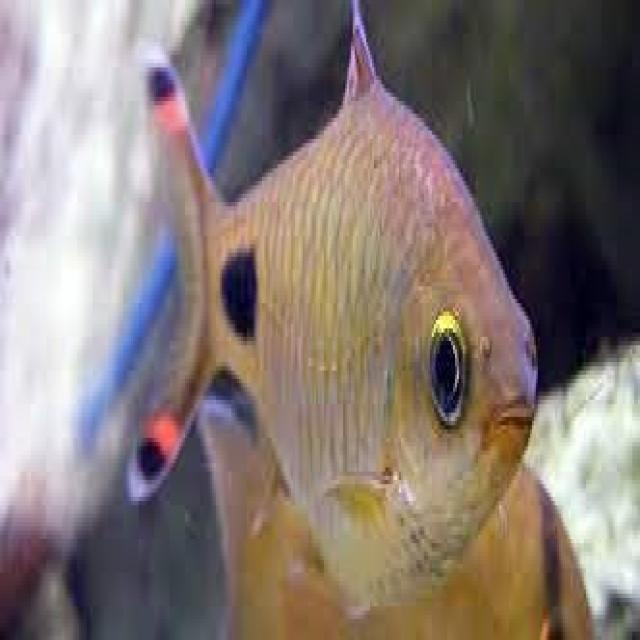Black-Spotted-Barb: (120, 52, 613, 601)
